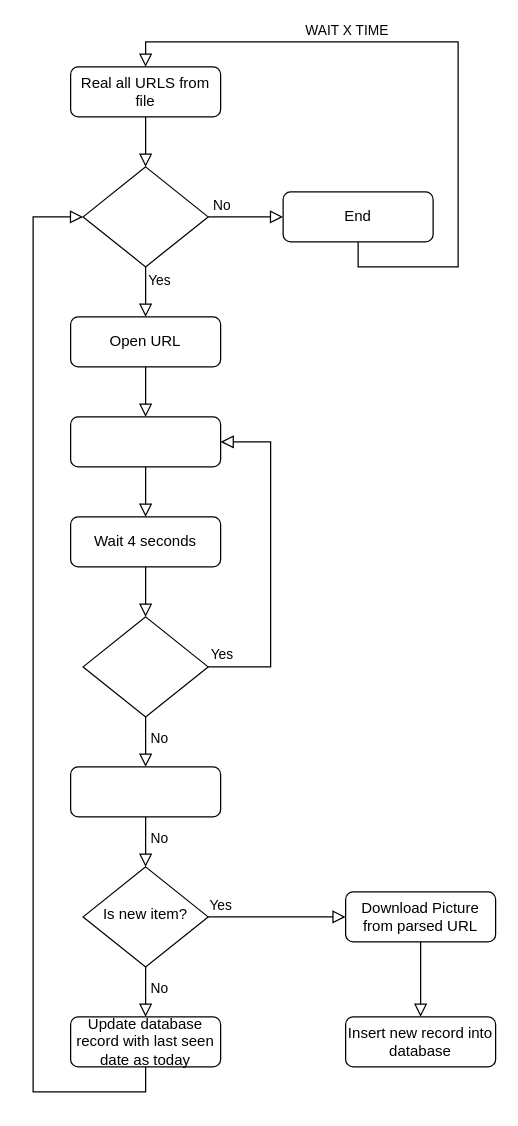
The diagram is 518 pixels wide and 1126 high, and some of its shapes have lost their labels. Here are the shapes that lost their labels. From the top down, the box of each, then its label:
(82, 166, 208, 267): Is more URL?
(69, 416, 221, 467): Scroll Down
(82, 616, 208, 717): Page longer?
(69, 766, 221, 817): Parse HTML data into structured array
